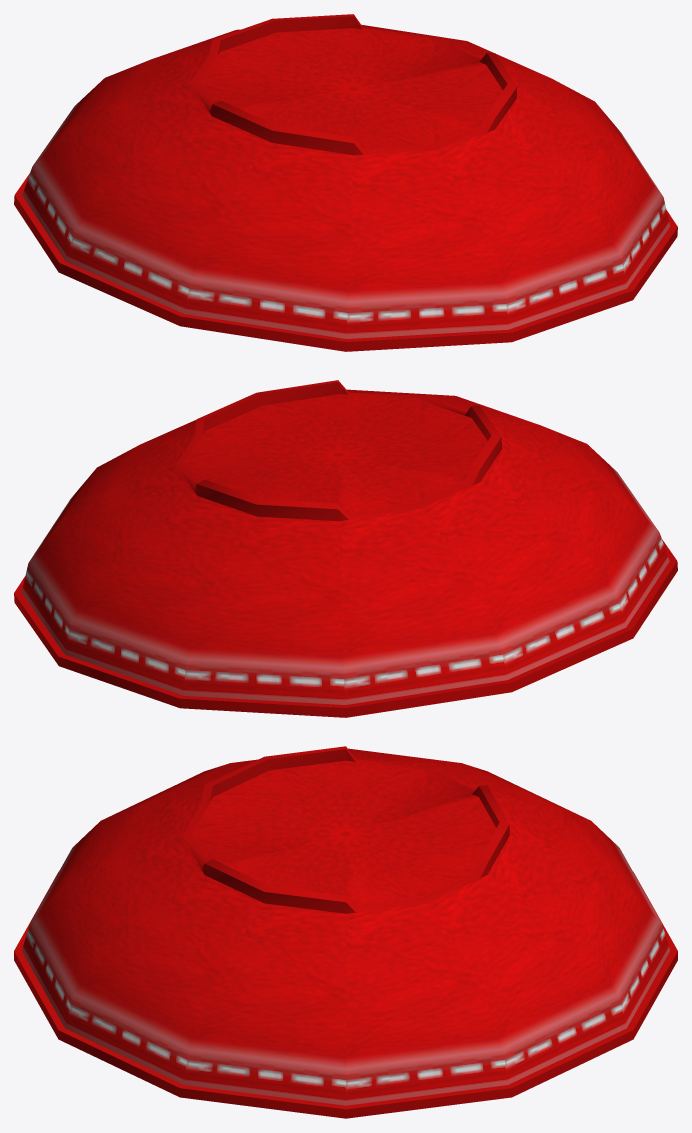
The picture shows the model from 3 angles, top to bottom: view 1: azimuth 30°, elevation 25°; view 2: azimuth 150°, elevation 25°; view 3: azimuth 270°, elevation 25°; orthographic projection.
Visible parts, largest first — view 1: Joint_0_Object_0; view 2: Joint_0_Object_0; view 3: Joint_0_Object_0.
Boxes of the visible parts, x1,y1,x2,y2 form: Joint_0_Object_0: (14,14,677,351); Joint_0_Object_0: (14,380,677,717); Joint_0_Object_0: (14,746,677,1118).
Size of the model in its own units: 507 by 142 by 508.
